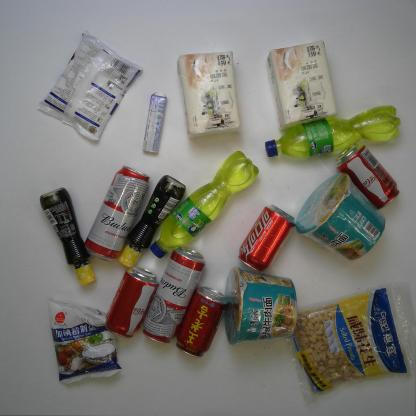Alcohol: (74, 163, 160, 263), (135, 243, 212, 343)
Candy: (140, 88, 170, 158)
Dried Fruit: (285, 286, 416, 398)
Drink: (149, 140, 263, 264), (264, 100, 406, 162), (334, 141, 408, 210), (96, 262, 161, 339), (235, 197, 295, 277), (174, 284, 228, 361)
Instant Noodles: (294, 171, 390, 263), (225, 265, 305, 348)
Seasoner: (29, 33, 143, 144), (25, 182, 102, 294), (36, 298, 127, 387), (112, 168, 189, 268)
Tissue: (264, 38, 347, 129), (175, 51, 249, 137)
